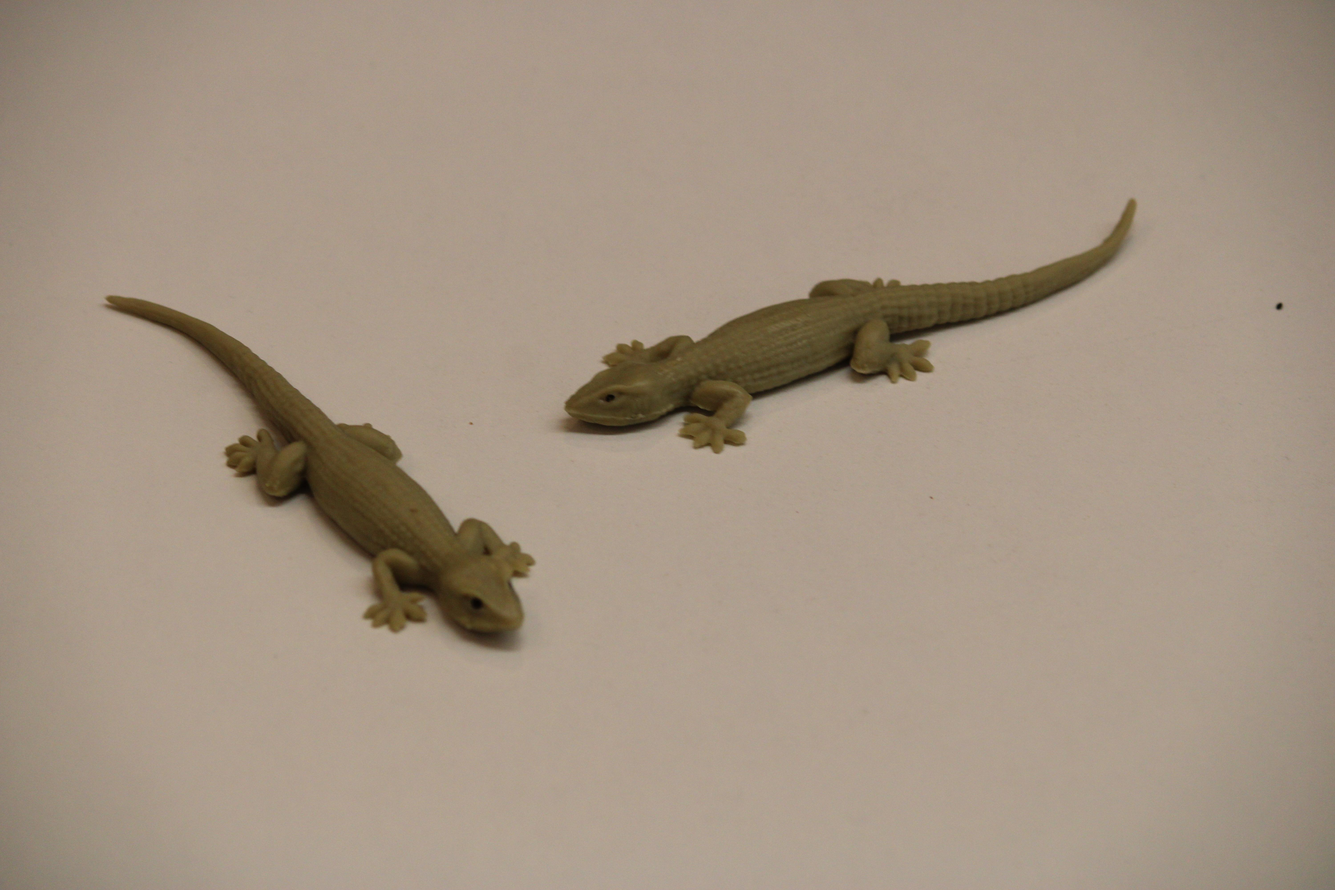lizard: (96, 281, 528, 652), (554, 194, 1149, 461)
